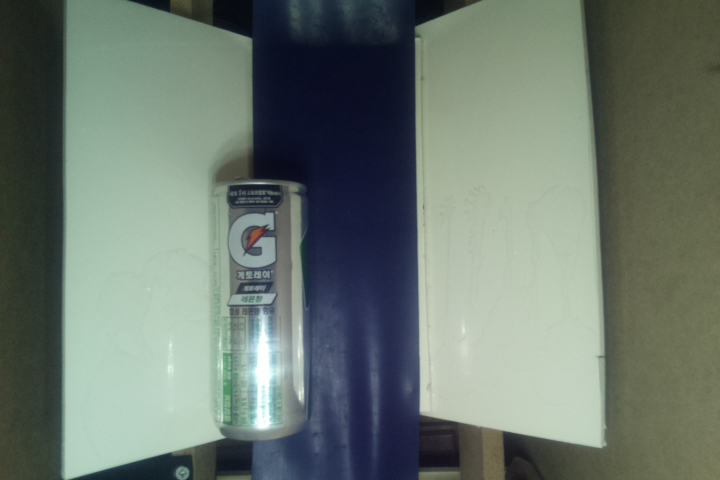can: (216, 177, 309, 441)
